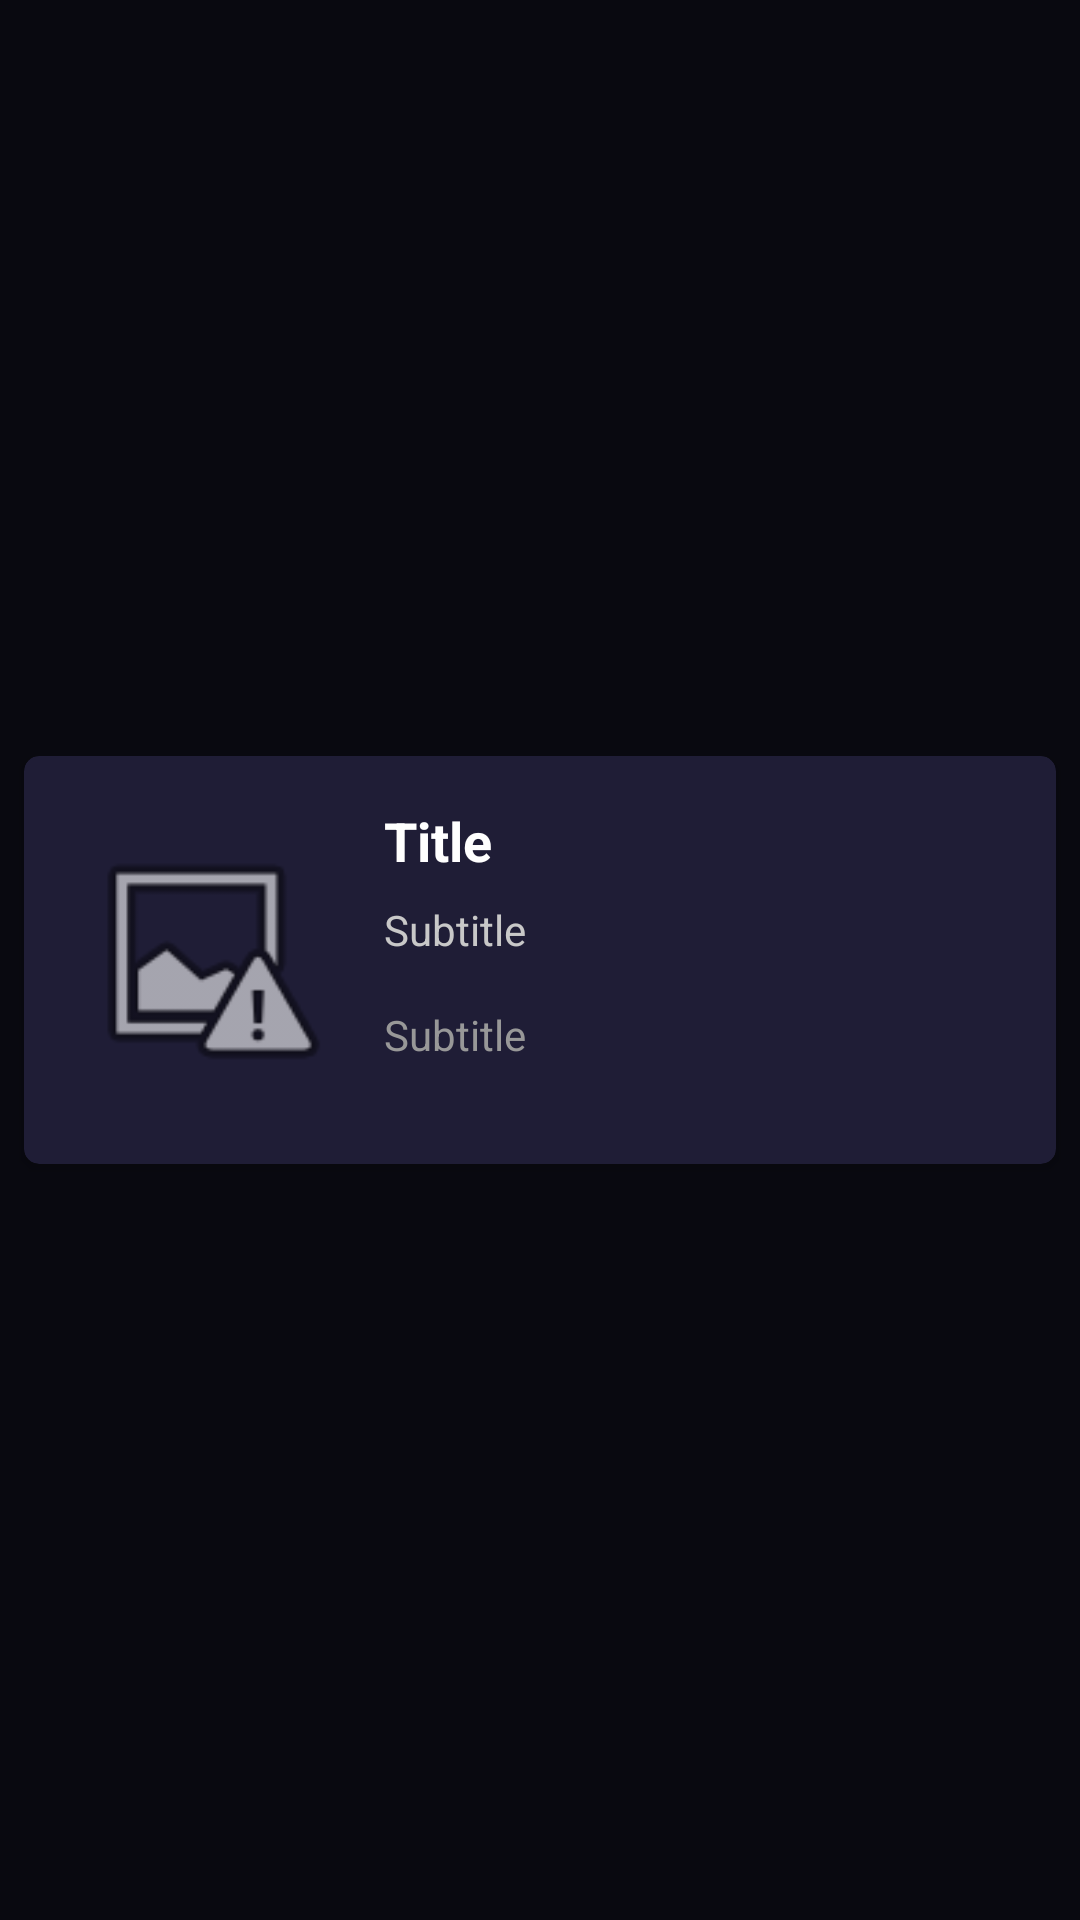

Icon click points for this 1080×1920 phone screenshot, format (x=x, y=y):
report: (x=213, y=962)
